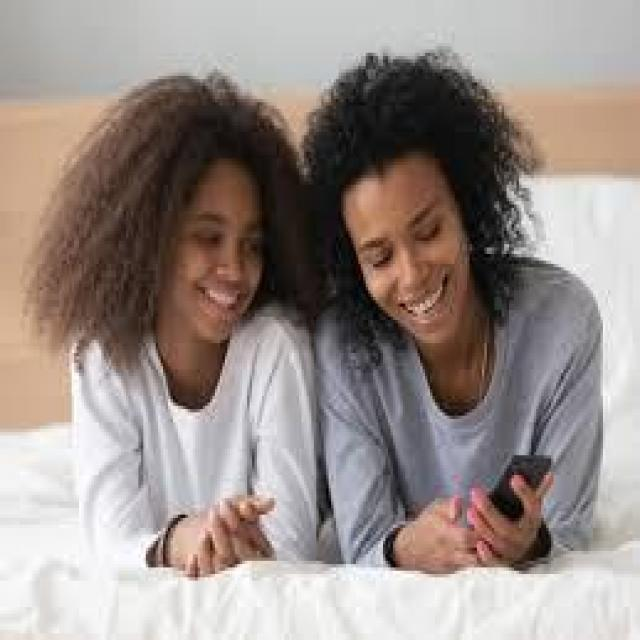person: (284, 49, 625, 607), (39, 59, 314, 594)
